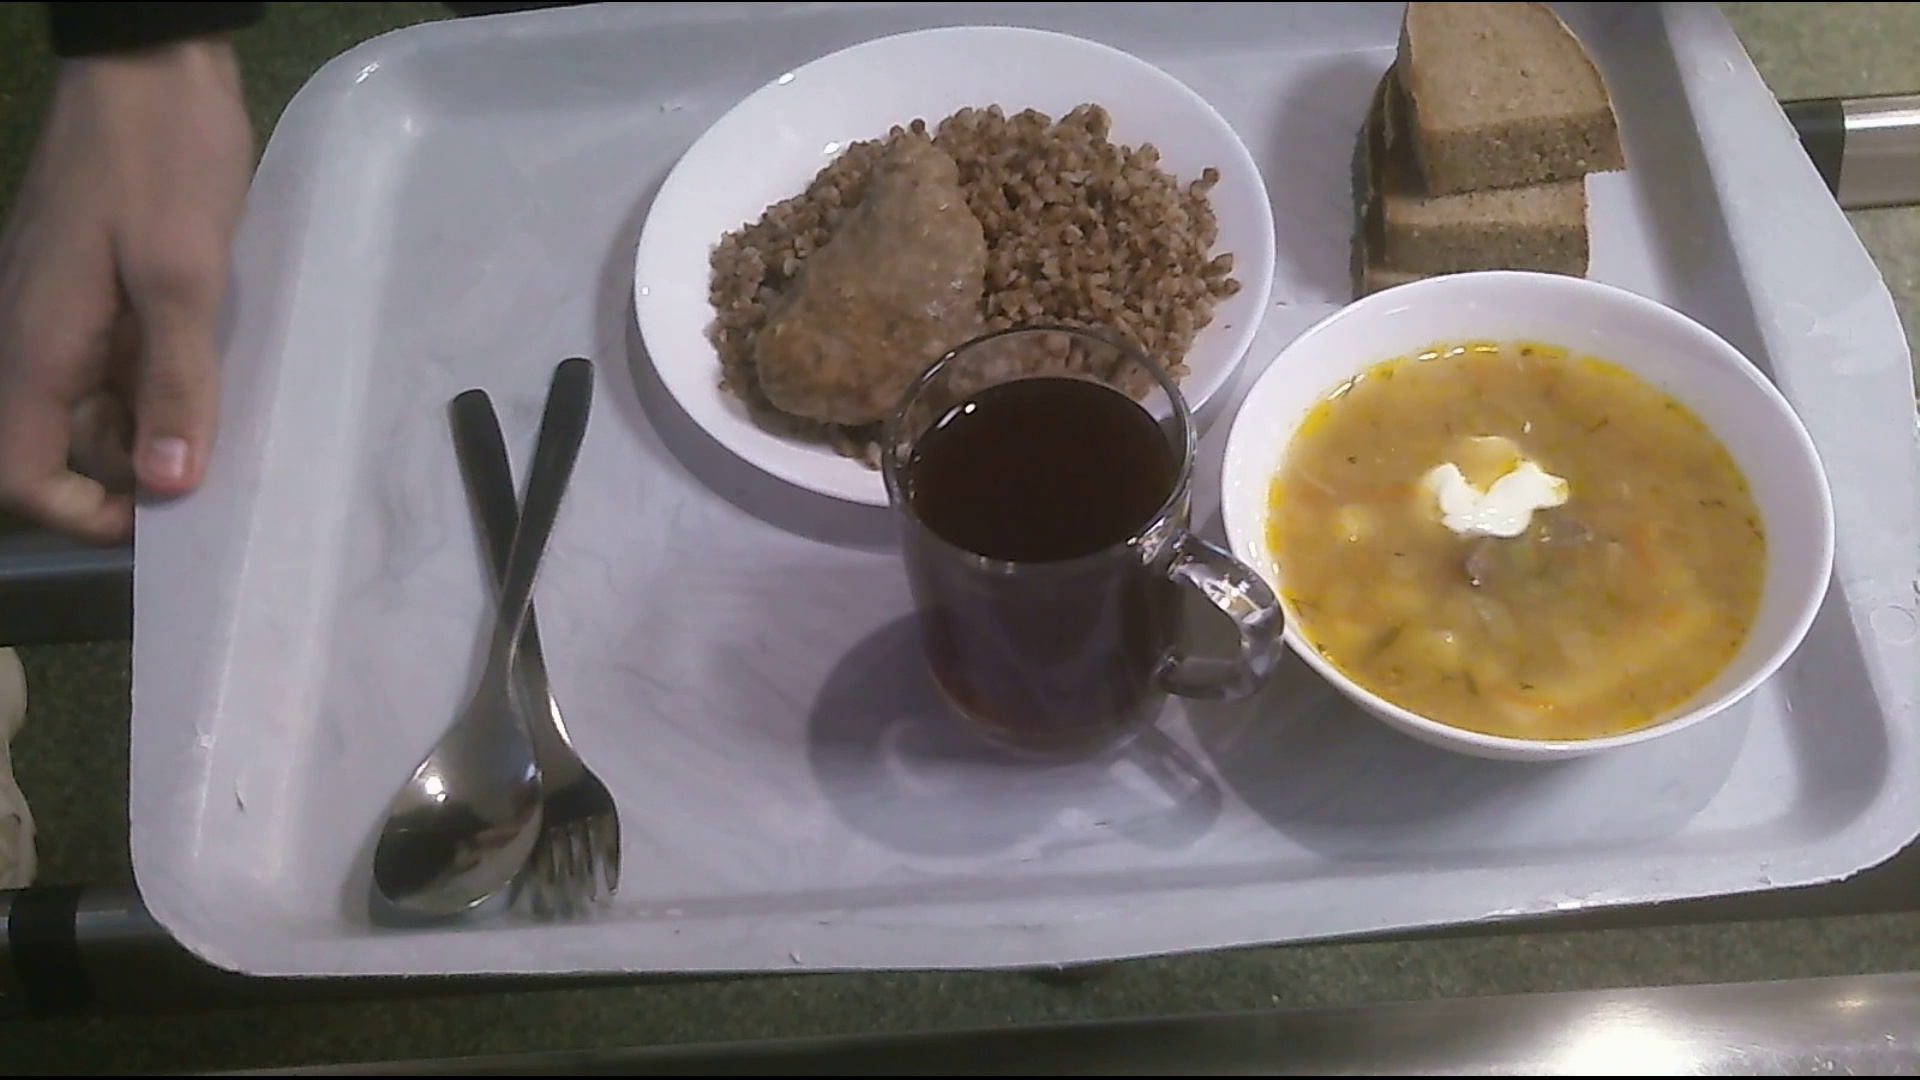bowl: (1220, 270, 1840, 765)
cutlery: (444, 356, 625, 916)
other: (894, 324, 1261, 760), (1352, 4, 1625, 291)
plate: (618, 21, 1276, 514)
